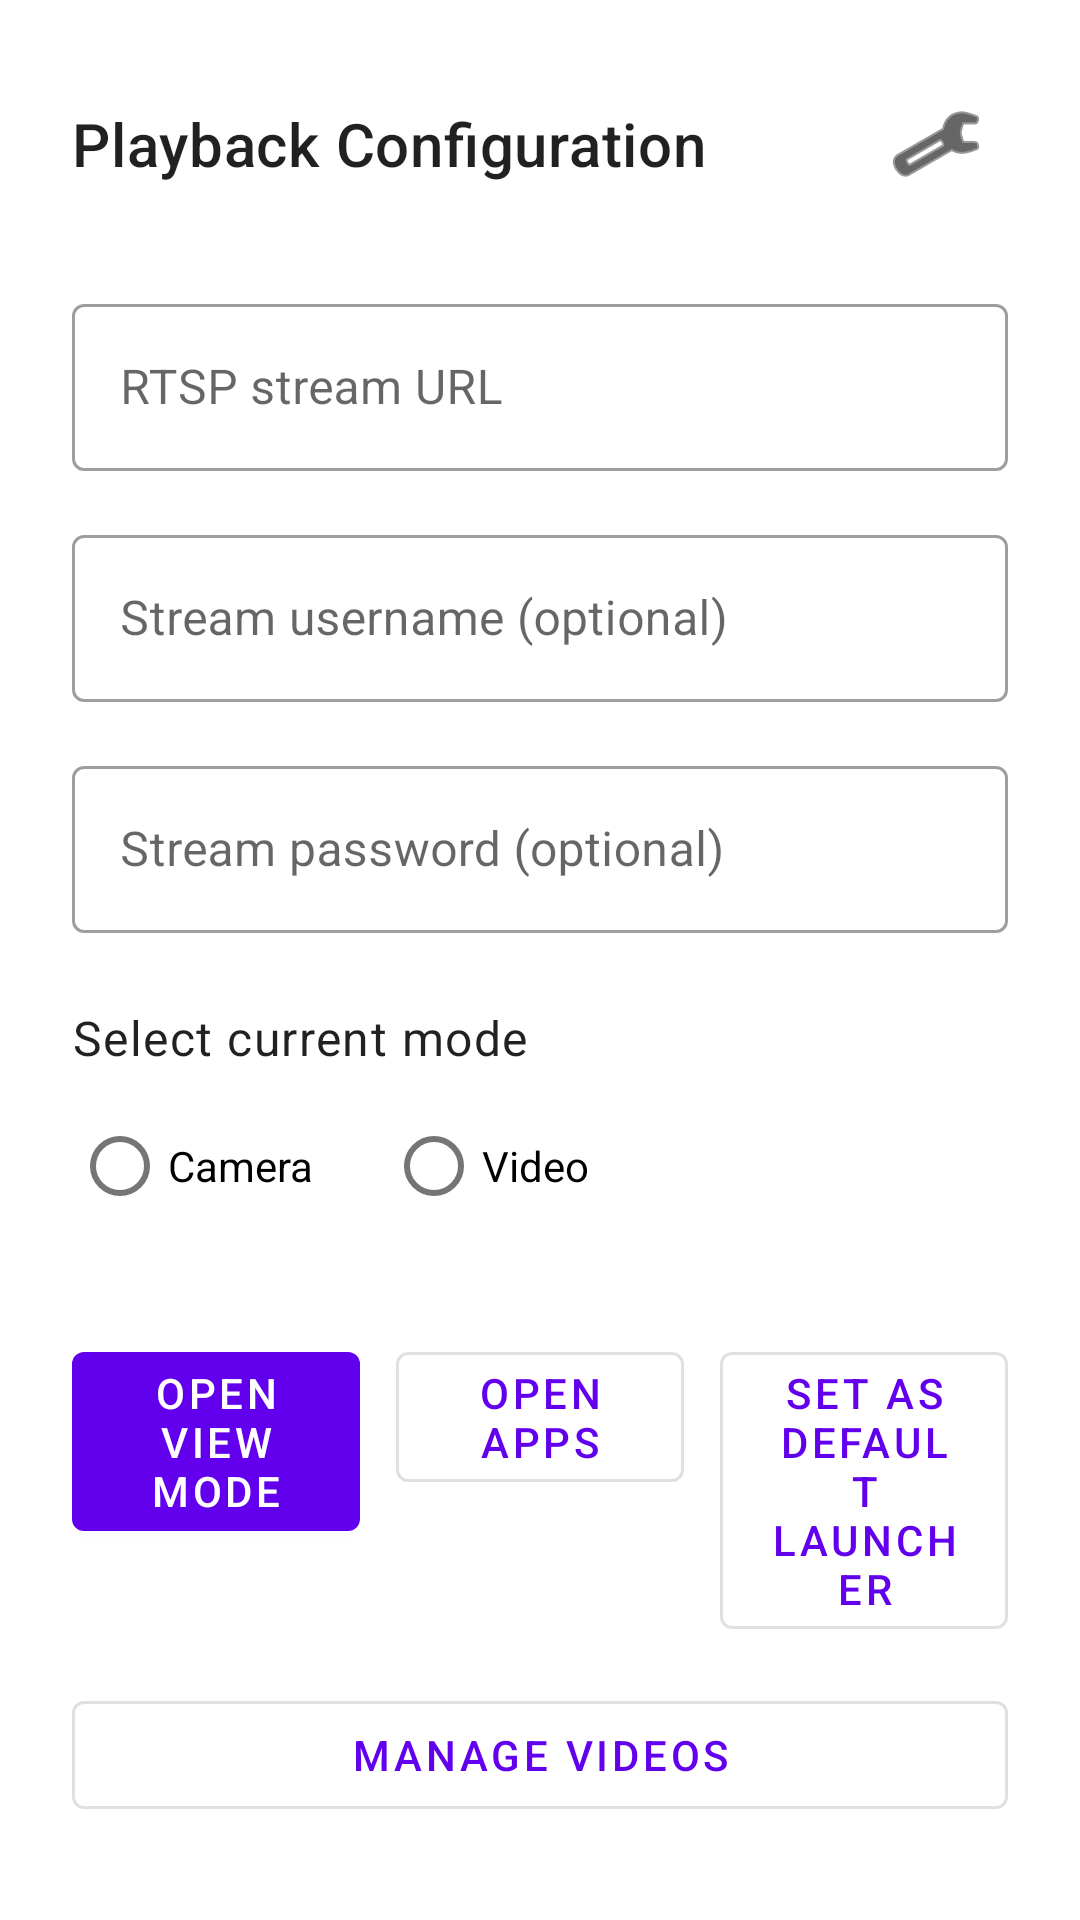

Locate icon controls on the screen. Image size 1080x1920, boxes as (x1, y1, x2, y2).
Open system settings: (893, 111, 979, 177)
